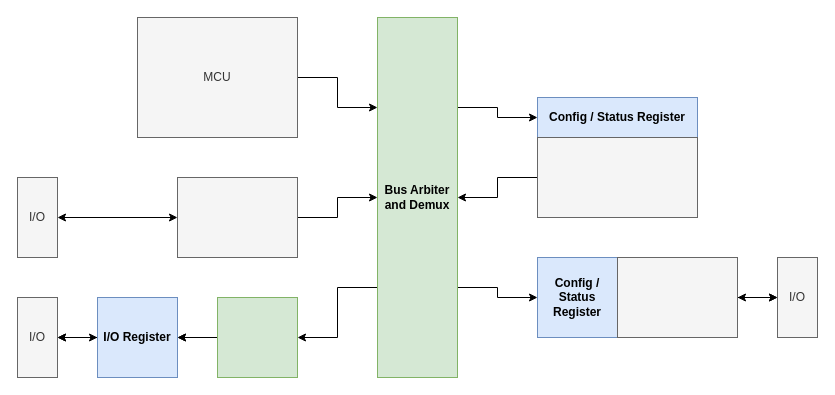
Image size: 835x395. Some labels were removed from this diagram. Each missing label, with the centre of its shape:
"Bus Format Adapter" belongs at point (257, 337).
"DMA Unit" belongs at point (617, 177).
"PWM Generator" belongs at point (677, 297).
"Serial Interface" belongs at point (237, 217).
